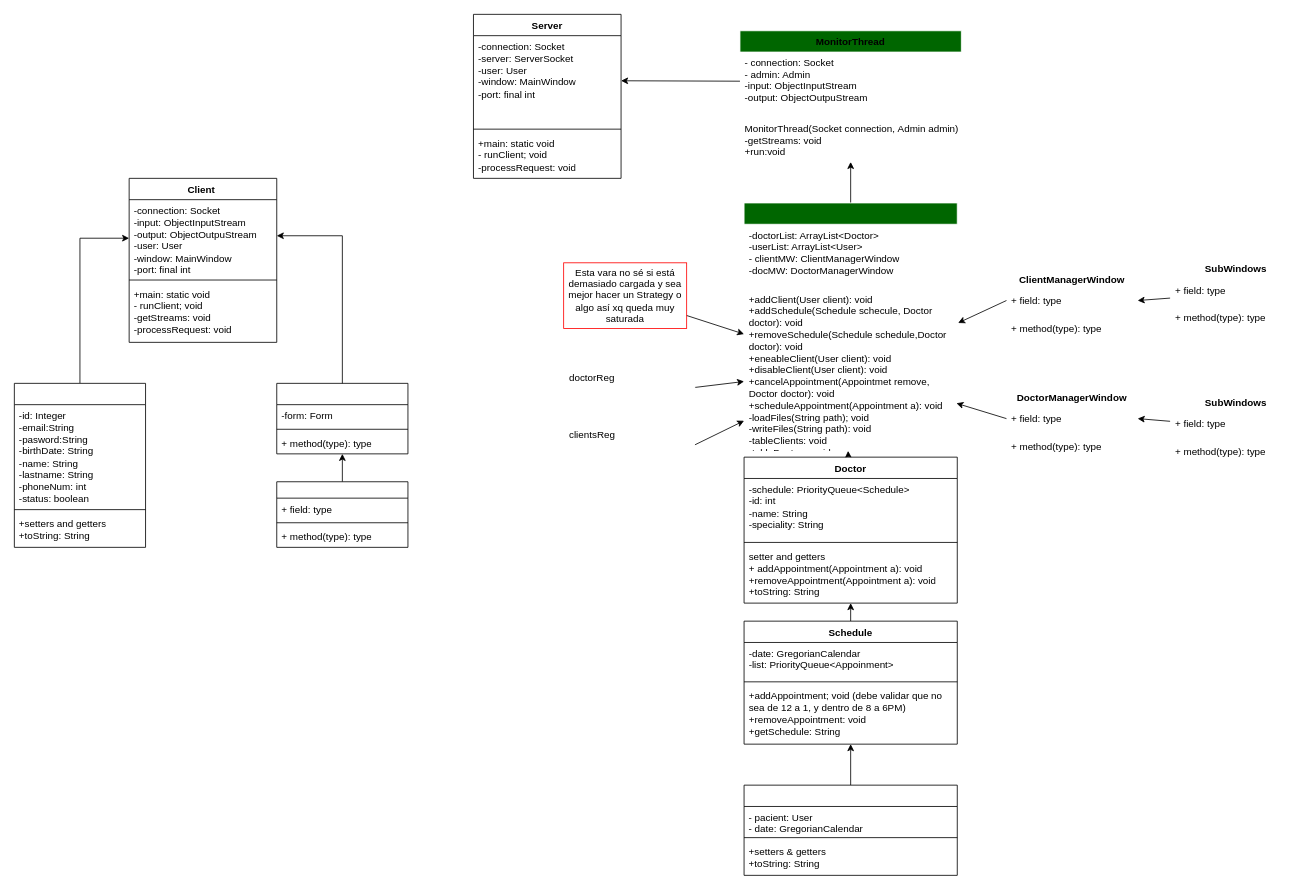
Some shapes in this 1316 by 892 pixel diagram are drawn without their labels. Each missing label, with the box of its shape:
Admin: (743, 202, 957, 449)
Appoinment: (743, 784, 957, 875)
FormWindow: (276, 481, 408, 547)
MainWindow: (276, 383, 408, 454)
User: (14, 383, 146, 547)
